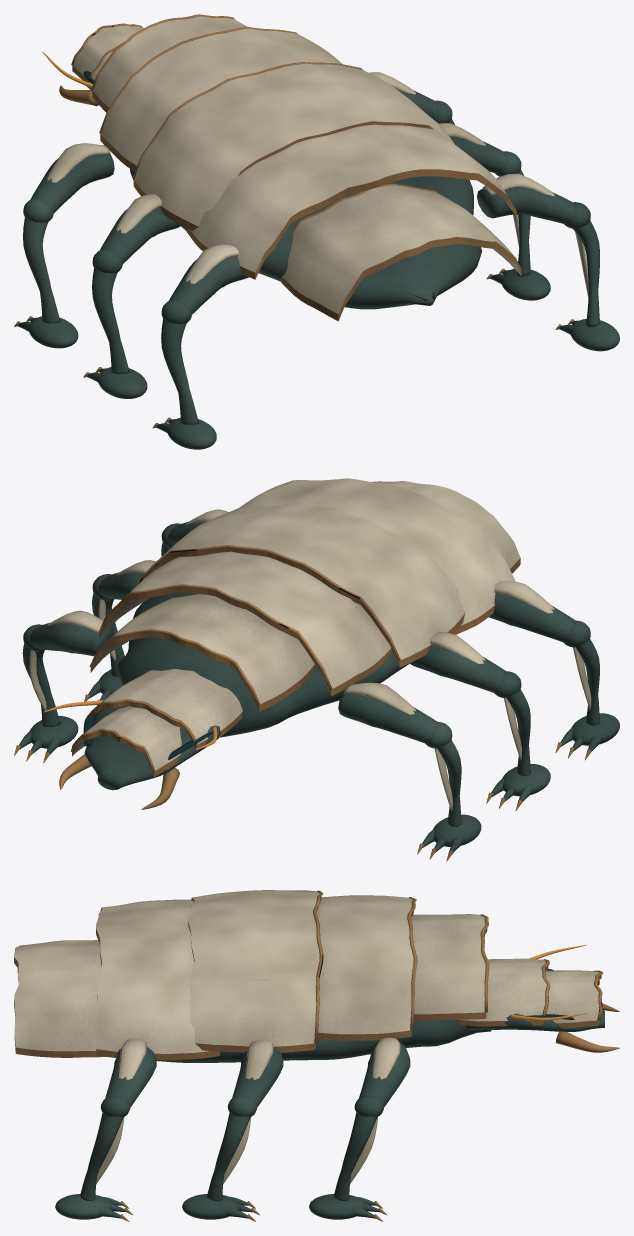
The model's file is veyra_runtime.glb.
The picture shows the model from 3 angles, top to bottom: view 1: azimuth 30°, elevation 25°; view 2: azimuth 150°, elevation 25°; view 3: azimuth 270°, elevation 25°; orthographic projection. The views are drawn at different scales.
Parts seen in each view (by area): view 1: Body_Geometry, Leg_L_0_Geometry, Leg_R_2_Geometry, Leg_L_2_Geometry, Leg_L_1_Geometry, Head_Geometry, Shin_L_2_Geometry, Shin_L_1_Geometry, Shin_L_0_Geometry, Leg_R_1_Geometry, Shin_R_2_Geometry, Foot_R_1_Geometry (+6 smaller); view 2: Body_Geometry, Head_Geometry, Leg_L_0_Geometry, Leg_L_2_Geometry, Leg_L_1_Geometry, Leg_R_0_Geometry, Shin_L_0_Geometry, Shin_L_2_Geometry, Shin_L_1_Geometry, Foot_L_2_Geometry, Foot_L_1_Geometry, Foot_L_0_Geometry (+6 smaller); view 3: Body_Geometry, Head_Geometry, Leg_R_0_Geometry, Leg_R_2_Geometry, Leg_R_1_Geometry, Shin_R_0_Geometry, Shin_R_1_Geometry, Shin_R_2_Geometry, Foot_R_2_Geometry, Foot_R_0_Geometry, Foot_R_1_Geometry.
Part boxes in pixels (x1,y1,x2,y2): Body_Geometry: (91, 14, 521, 321); Leg_L_0_Geometry: (23, 143, 114, 222); Leg_R_2_Geometry: (477, 173, 590, 228); Leg_L_2_Geometry: (161, 244, 248, 323); Leg_L_1_Geometry: (92, 194, 180, 273); Head_Geometry: (42, 14, 195, 106); Shin_L_2_Geometry: (161, 318, 198, 424); Shin_L_1_Geometry: (92, 268, 129, 373); Shin_L_0_Geometry: (23, 217, 60, 323); Leg_R_1_Geometry: (439, 123, 521, 176); Shin_R_2_Geometry: (573, 220, 599, 327); Foot_R_1_Geometry: (486, 268, 550, 300); Body_Geometry: (89, 478, 520, 737); Head_Geometry: (42, 669, 242, 809); Leg_L_0_Geometry: (338, 682, 452, 748); Leg_L_2_Geometry: (489, 581, 590, 647); Leg_L_1_Geometry: (410, 632, 521, 697); Leg_R_0_Geometry: (23, 610, 114, 656); Shin_L_0_Geometry: (434, 740, 461, 826); Shin_L_2_Geometry: (573, 639, 599, 725); Shin_L_1_Geometry: (503, 689, 530, 776); Foot_L_2_Geometry: (555, 713, 619, 759); Foot_L_1_Geometry: (486, 764, 550, 810); Foot_L_0_Geometry: (417, 814, 481, 861); Body_Geometry: (14, 890, 491, 1062); Head_Geometry: (458, 944, 619, 1052); Leg_R_0_Geometry: (354, 1037, 410, 1116); Leg_R_2_Geometry: (100, 1038, 156, 1116); Leg_R_1_Geometry: (227, 1040, 283, 1116); Shin_R_0_Geometry: (333, 1113, 377, 1200); Shin_R_1_Geometry: (206, 1113, 251, 1201); Shin_R_2_Geometry: (80, 1113, 124, 1201); Foot_R_2_Geometry: (55, 1194, 132, 1221); Foot_R_0_Geometry: (309, 1194, 386, 1221); Foot_R_1_Geometry: (182, 1194, 259, 1221).
Bounding box in the file's own units: 2.84 × 1.43 × 3.68.
3 materials, 3 textured.
